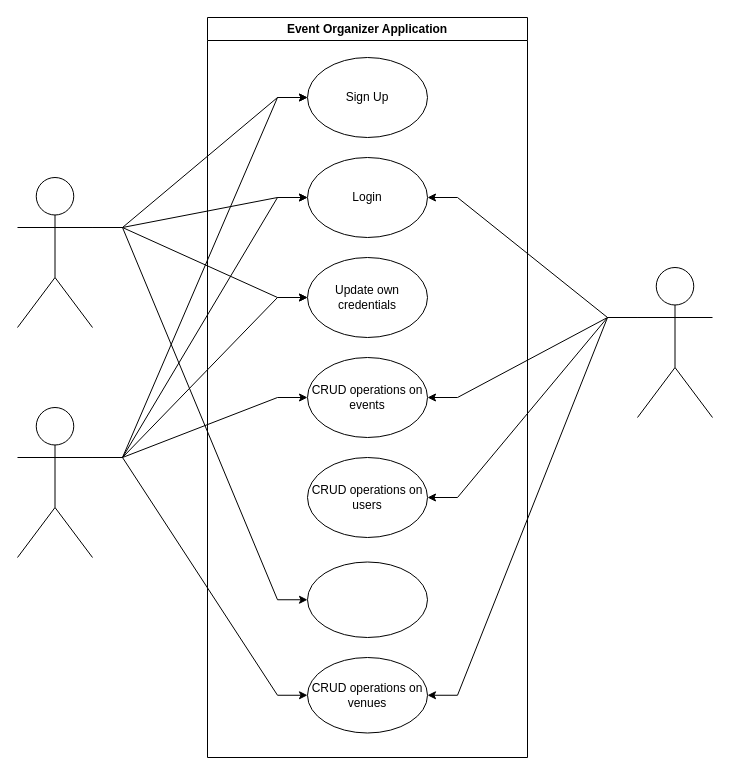
The diagram is 730 pixels wide and 775 high, and some of its shapes have lost their labels. The shapes that lost their labels are listed below. From the top down, each one's box as (x1, y1, x2, y2) in pixels, then its label:
(16, 176, 92, 328): Client
(636, 266, 712, 418): Admin
(16, 406, 92, 558): Organizer
(306, 561, 428, 638): Buy tickets
